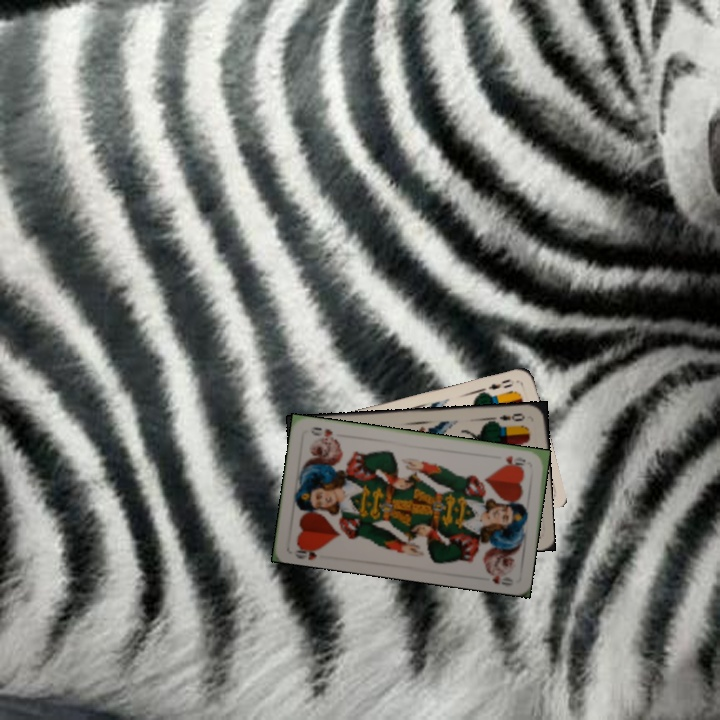EO: (484, 375, 516, 392), (496, 409, 527, 424)
HO: (290, 540, 325, 562), (502, 452, 530, 470)
